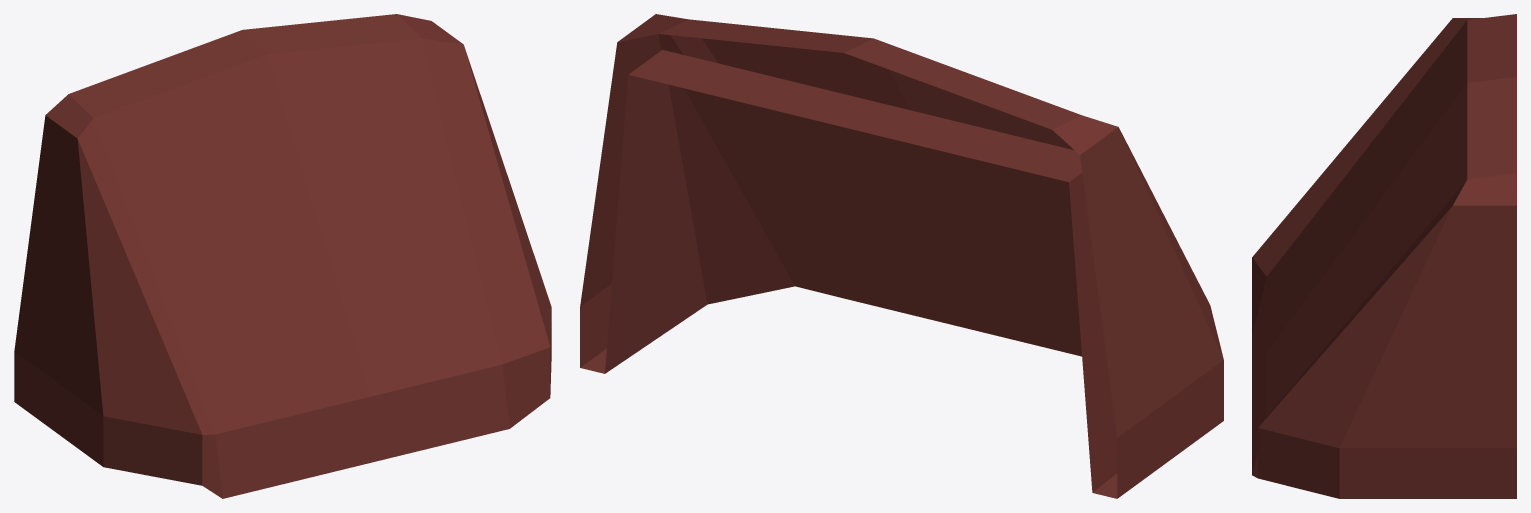
Rendered from SM_Bld_Cover_02.glb.
The picture shows the model from 3 angles, left to right: view 1: azimuth 30°, elevation 25°; view 2: azimuth 150°, elevation 25°; view 3: azimuth 270°, elevation 25°; orthographic projection. The views are drawn at different scales.
Parts seen in each view (by area): view 1: SM_Bld_Cover_02; view 2: SM_Bld_Cover_02; view 3: SM_Bld_Cover_02.
Part boxes in pixels (<box>): SM_Bld_Cover_02: <box>14,14,551,498</box>; SM_Bld_Cover_02: <box>580,14,1223,498</box>; SM_Bld_Cover_02: <box>1252,14,1516,498</box>.
Size of the model in its own units: 0.0137 by 0.00974 by 0.00701.
1 material, 1 textured.
